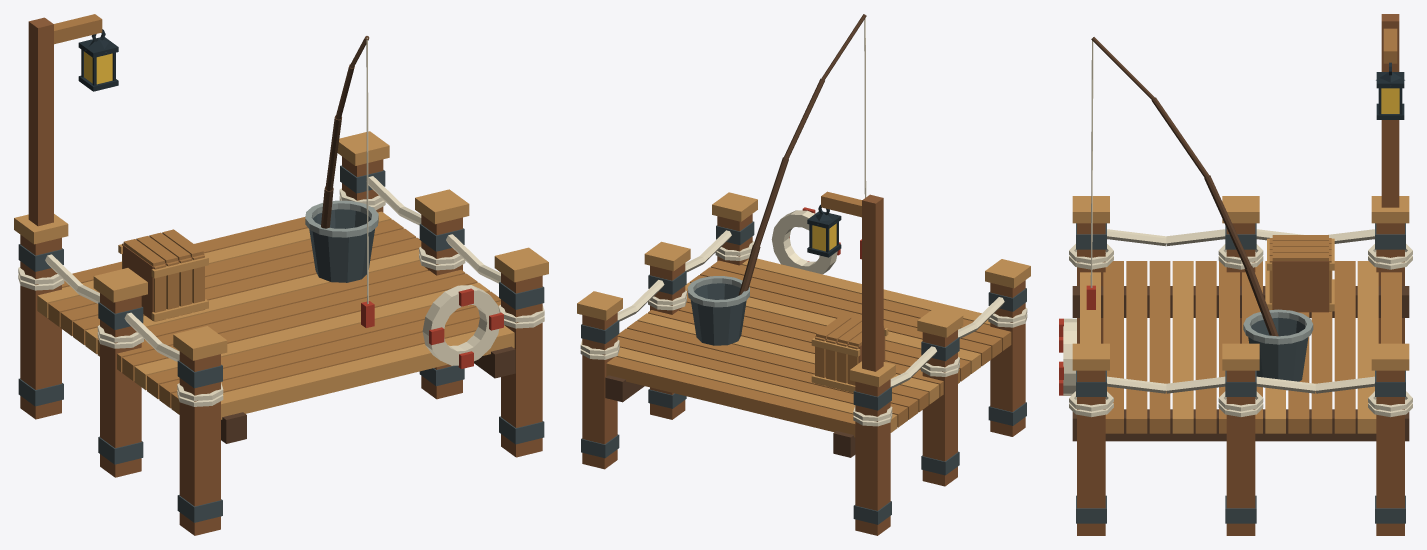
The model's file is main_fishing_deck.glb.
3 views of the same model, side by side, from view 1: azimuth 30°, elevation 25°; view 2: azimuth 150°, elevation 25°; view 3: azimuth 270°, elevation 25° (orthographic). The views are drawn at different scales.
Parts seen in each view (by area): view 1: platform__wood2.003, platform__wood3.003, pile_0__wood.003, lamp__wood.003, pile_1__wood.003, pile_2__wood.003, pile_4__wood.003, body__wood2.008, body__metal.010, life_ring__cream.003, rope_rails__cream.003, platform__wood_dark.003 (+24 smaller); view 2: platform__wood2.003, platform__wood3.003, pile_2__wood.003, lamp__wood.003, pile_3__wood.003, pile_0__wood.003, pile_4__wood.003, body__metal.010, body__wood2.008, rope_rails__cream.003, fishing_rod__wood_dark.001, life_ring__cream.003 (+18 smaller); view 3: platform__wood2.003, platform__wood3.003, platform__wood_dark.003, rope_rails__cream.003, pile_5__wood.003, pile_1__wood.003, pile_3__wood.003, body__wood.006, body__metal.010, fishing_rod__wood_dark.001, lamp__wood.003, body__wood2.008 (+28 smaller).
Part boxes in pixels (bbox=[...]): platform__wood2.003: bbox=[48, 217, 500, 414]; platform__wood3.003: bbox=[37, 211, 514, 419]; pile_0__wood.003: bbox=[179, 351, 220, 535]; lamp__wood.003: bbox=[28, 17, 53, 226]; pile_1__wood.003: bbox=[501, 273, 542, 457]; pile_2__wood.003: bbox=[20, 235, 61, 419]; pile_4__wood.003: bbox=[100, 293, 141, 477]; body__wood2.008: bbox=[122, 229, 204, 321]; body__metal.010: bbox=[309, 209, 374, 282]; life_ring__cream.003: bbox=[422, 285, 499, 365]; rope_rails__cream.003: bbox=[45, 176, 500, 361]; platform__wood_dark.003: bbox=[221, 346, 515, 443]; platform__wood2.003: bbox=[606, 260, 1011, 437]; platform__wood3.003: bbox=[616, 258, 990, 432]; pile_2__wood.003: bbox=[855, 379, 890, 535]; lamp__wood.003: bbox=[862, 194, 883, 371]; pile_3__wood.003: bbox=[582, 312, 617, 469]; pile_0__wood.003: bbox=[990, 280, 1025, 436]; pile_4__wood.003: bbox=[922, 330, 957, 486]; body__metal.010: bbox=[690, 283, 746, 345]; body__wood2.008: bbox=[815, 315, 885, 392]; rope_rails__cream.003: bbox=[617, 230, 1004, 388]; fishing_rod__wood_dark.001: bbox=[738, 14, 866, 295]; life_ring__cream.003: bbox=[771, 210, 837, 274]; platform__wood2.003: bbox=[1103, 261, 1401, 433]; platform__wood3.003: bbox=[1080, 261, 1378, 433]; platform__wood_dark.003: bbox=[1072, 286, 1409, 441]; rope_rails__cream.003: bbox=[1107, 229, 1374, 393]; pile_5__wood.003: bbox=[1226, 370, 1255, 535]; pile_1__wood.003: bbox=[1077, 370, 1105, 535]; pile_3__wood.003: bbox=[1376, 370, 1404, 535]; body__wood.006: bbox=[1272, 261, 1328, 312]; body__metal.010: bbox=[1248, 317, 1308, 381]; fishing_rod__wood_dark.001: bbox=[1091, 37, 1278, 336]; lamp__wood.003: bbox=[1381, 14, 1399, 207]; body__wood2.008: bbox=[1269, 235, 1331, 311].
Bounding box in the file's own units: 3.16 × 3.74 × 2.84.
